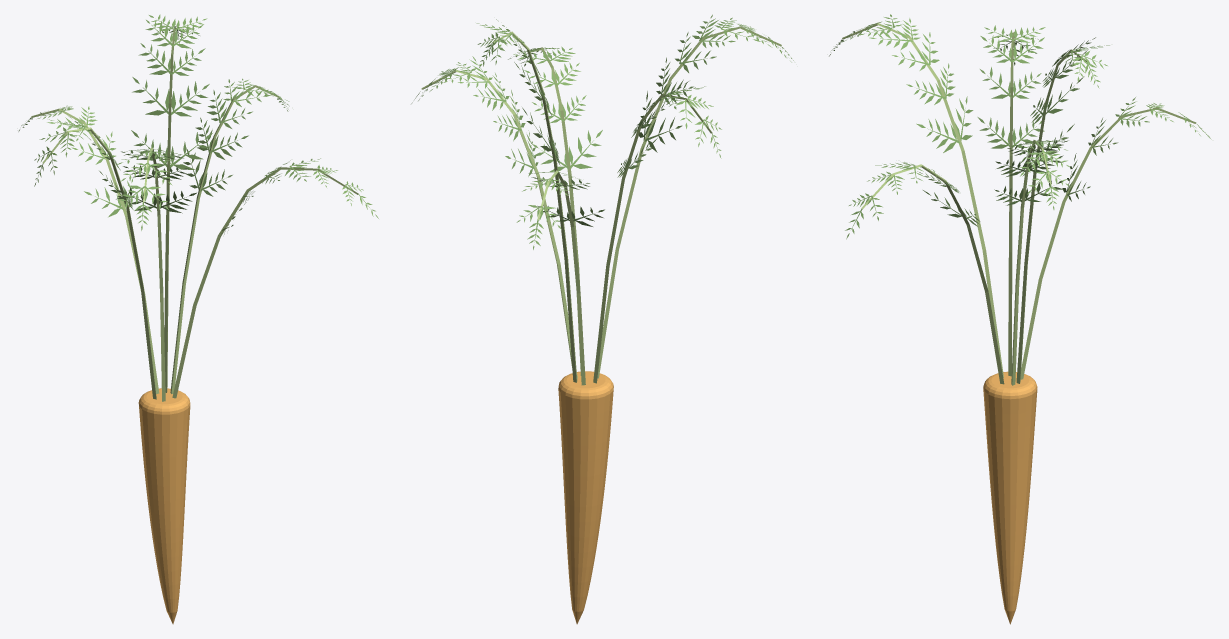
Rendered from carrot_harvest_v03.glb.
The picture shows the model from 3 angles, left to right: view 1: azimuth 30°, elevation 25°; view 2: azimuth 150°, elevation 25°; view 3: azimuth 270°, elevation 25°; orthographic projection. The views are drawn at different scales.
Visible parts, largest first — view 1: leaves, root, petioles; view 2: root, leaves, petioles; view 3: leaves, root, petioles.
Boxes of the visible parts, box(x1,y1,x2,y2) form: leaves: box(18, 14, 378, 237); root: box(138, 388, 190, 624); petioles: box(31, 28, 358, 401); root: box(558, 371, 613, 624); leaves: box(411, 14, 793, 249); petioles: box(421, 26, 781, 385); leaves: box(829, 14, 1211, 239); root: box(983, 371, 1037, 624); petioles: box(842, 23, 1196, 385).
Bounding box in the file's own units: 0.2011 × 0.4022 × 0.2372.
